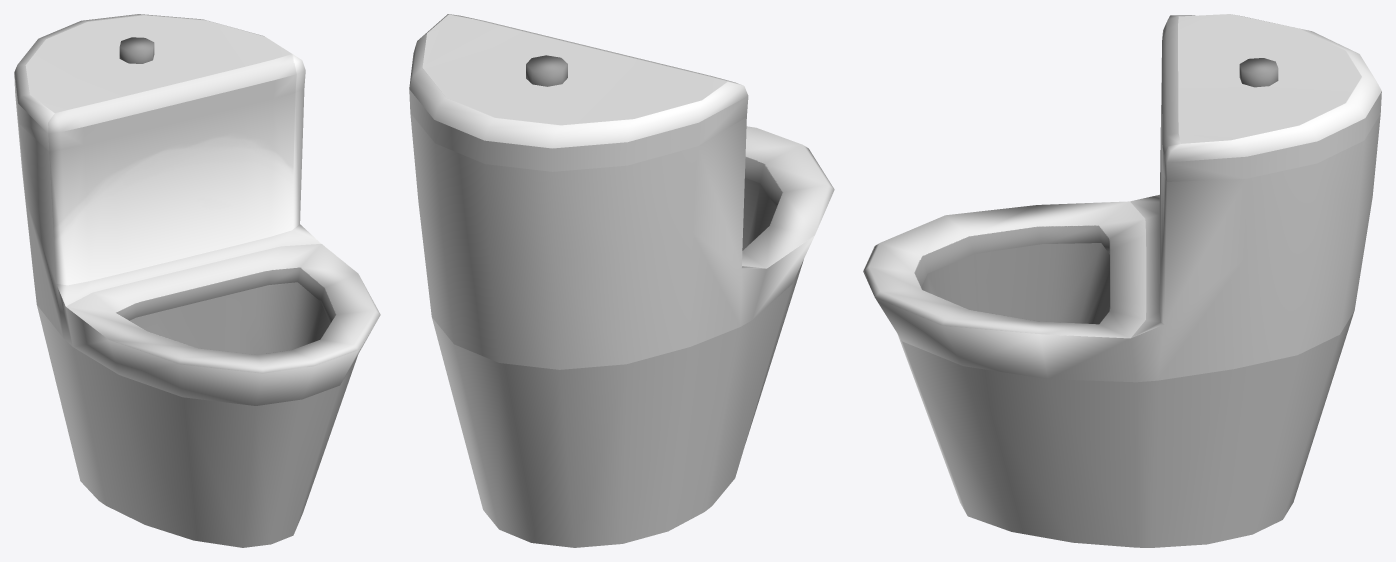
File: Vater.fbx
3 views of the same model, side by side, from view 1: azimuth 30°, elevation 25°; view 2: azimuth 150°, elevation 25°; view 3: azimuth 270°, elevation 25° (orthographic). The views are drawn at different scales.
Parts seen in each view (by area): view 1: vater, Cylinder.036; view 2: vater, Cylinder.036; view 3: vater, Cylinder.036.
Boxes of the visible parts, bbox=[...] form: vater: bbox=[14, 14, 380, 547]; Cylinder.036: bbox=[119, 37, 154, 63]; vater: bbox=[409, 14, 834, 547]; Cylinder.036: bbox=[526, 55, 567, 86]; vater: bbox=[863, 14, 1381, 547]; Cylinder.036: bbox=[1239, 58, 1278, 87].
Size of the model in its own units: 42.33 by 62.67 by 67.33.
